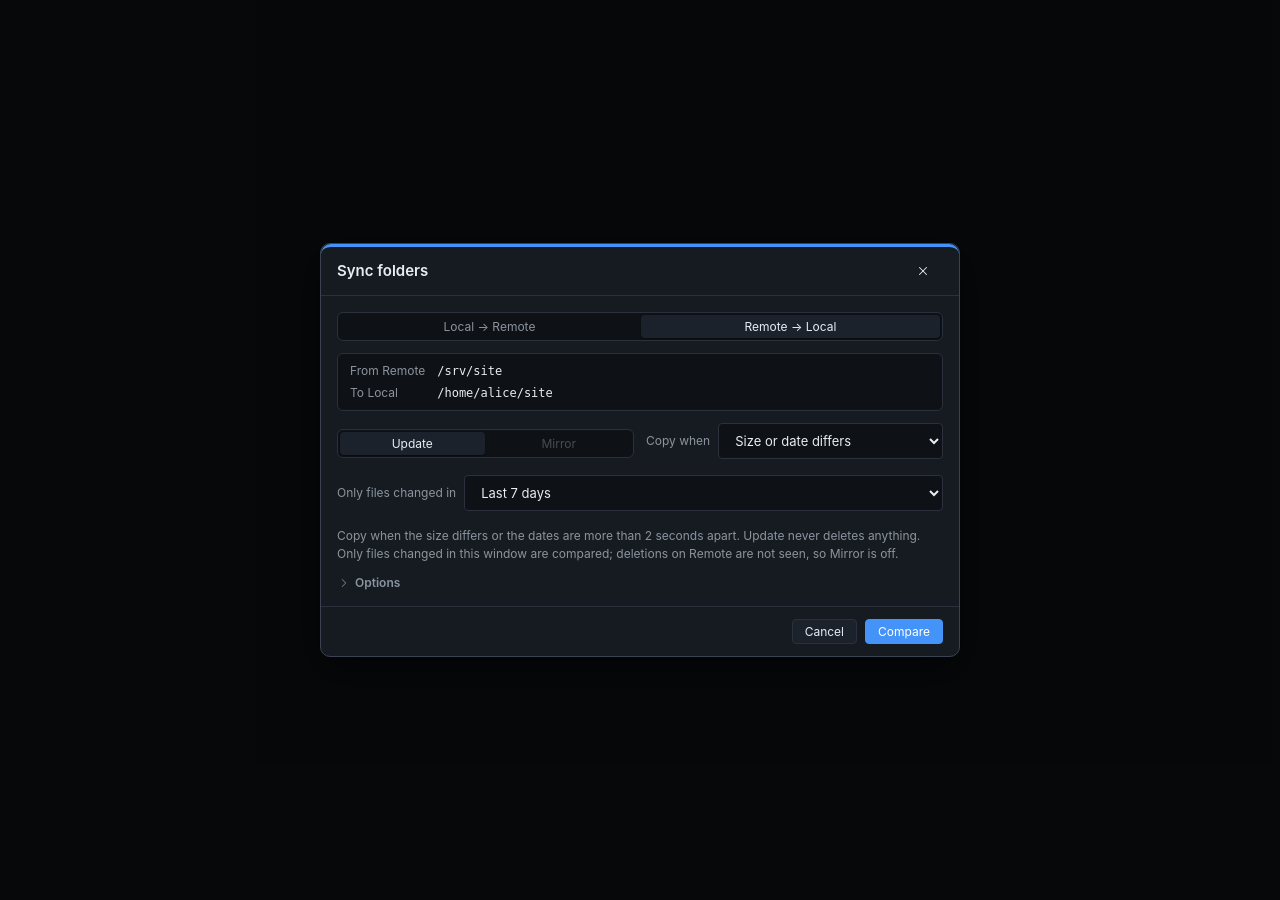
Scenario: SyncDialog › notes a fallback when the server could not search
Click the button "Compare" at x=904, y=632, box [865,619,943,644]
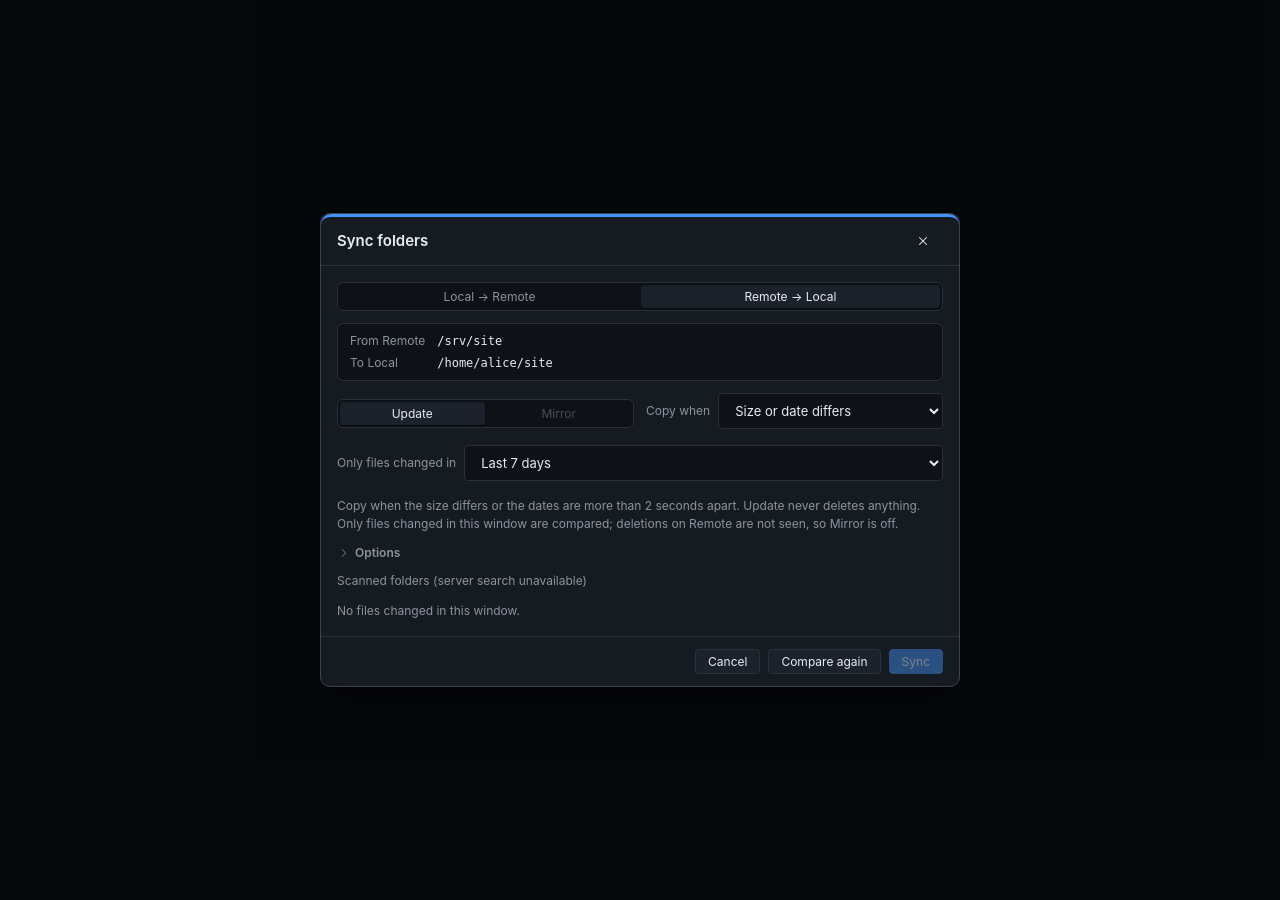
expect the list item "Scanned folders (server search unavailable)" is shown: met, box [337,572,587,590]
expect the dialog shows "No files changed in this window.": met, box [337,603,520,618]
